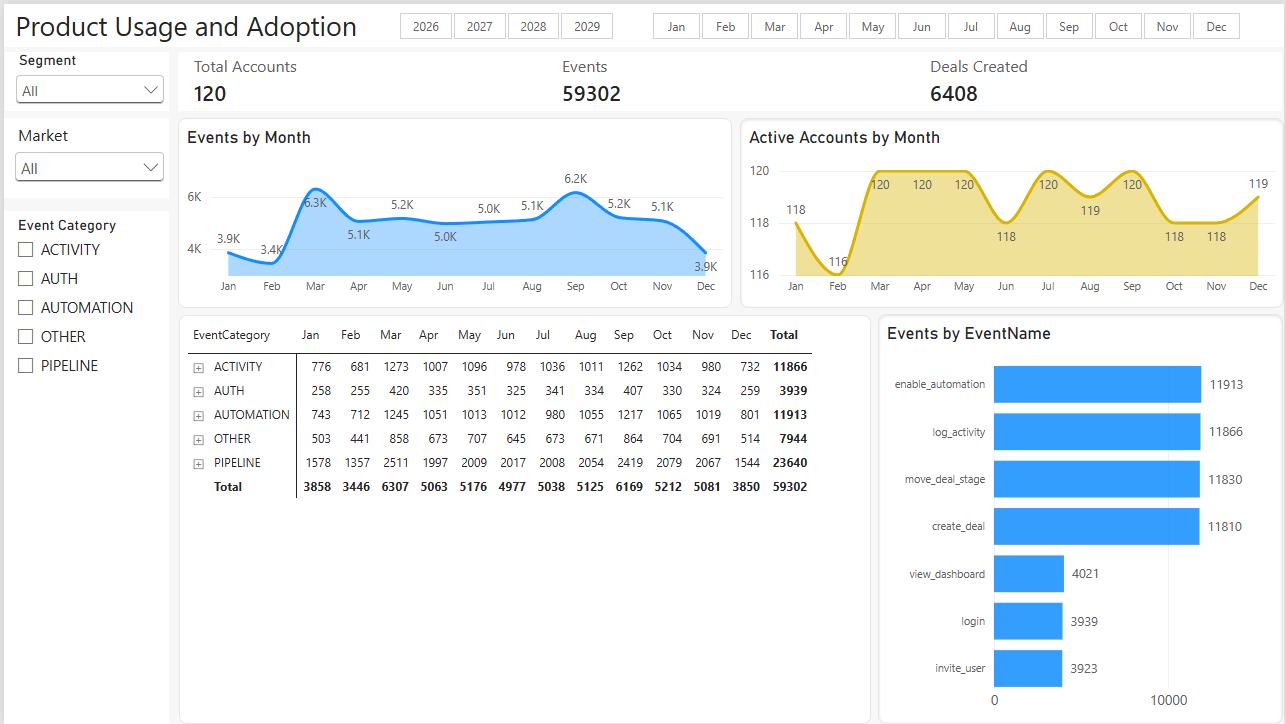

Layout of this report page (visuals, bound fields, positions):
{"tool":"powerbi","page":{"name":"Product Usage and Adoption","canvas":[1280,720],"ordinal":1},"visuals":[{"type":"textbox","box":[0,0,1280.4,43.5],"z":0},{"type":"slicer","fields":{"Values":["dim_date.Year"]},"box":[375,7,253,30],"z":1000},{"type":"slicer","fields":{"Values":["dim_date.Month (Short)"]},"box":[628,7,627.2,30.4],"z":2000},{"type":"slicer","fields":{"Values":["gold_dim_accounts.Segment"]},"box":[1,48.5,163.9,58.8],"z":3000},{"type":"slicer","fields":{"Values":["gold_dim_accounts.Market"]},"box":[0,114.4,164.6,79.7],"z":4000},{"type":"cardVisual","fields":{"Data":["_Measures.Total Accounts","_Measures.Events","_Measures.Deals Created"]},"box":[174.2,48.5,1106.2,58.8],"z":5000},{"type":"lineChart","title":"Events by Month","fields":{"Category":["dim_date.Month (Short)"],"Y":["_Measures.Events"]},"box":[174.2,114.4,553.8,189.7],"z":6000},{"type":"lineChart","title":"Active Accounts by Month","fields":{"Category":["dim_date.Month (Short)"],"Y":["_Measures.Active Accounts"]},"box":[736.1,114.4,543.6,189.7],"z":7000},{"type":"pivotTable","title":"Events by Month","fields":{"Columns":["dim_date.Month (Short)"],"Rows":["gold_fact_product_events.EventCategory","gold_fact_product_events.EventName"],"Values":["_Measures.Events"]},"box":[175.3,311.3,691.8,408.2],"z":8000},{"type":"clusteredBarChart","fields":{"Category":["gold_fact_product_events.EventName"],"Y":["_Measures.Events"]},"box":[874.2,310.3,405.2,409.3],"z":9000},{"type":"slicer","fields":{"Values":["gold_fact_product_events.EventCategory"]},"box":[0,207.1,164.7,512.9],"z":10000}]}

Visuals, with their boxes in screenshot pixels (x1, y1, x2, y2), scaled from the page's 1280x720 canvas onto the 1286x724 screenshot:
textbox: [0, 0, 1285, 44]
slicer - dim_date.Year: [377, 7, 631, 37]
slicer - dim_date.Month (Short): [631, 7, 1261, 38]
slicer - gold_dim_accounts.Segment: [1, 49, 166, 108]
slicer - gold_dim_accounts.Market: [0, 115, 165, 195]
cardVisual - _Measures.Total Accounts x _Measures.Events: [175, 49, 1285, 108]
"Events by Month" lineChart: [175, 115, 731, 306]
"Active Accounts by Month" lineChart: [740, 115, 1285, 306]
"Events by Month" pivotTable: [176, 313, 871, 723]
clusteredBarChart - gold_fact_product_events.EventName x _Measures.Events: [878, 312, 1285, 723]
slicer - gold_fact_product_events.EventCategory: [0, 208, 165, 723]
